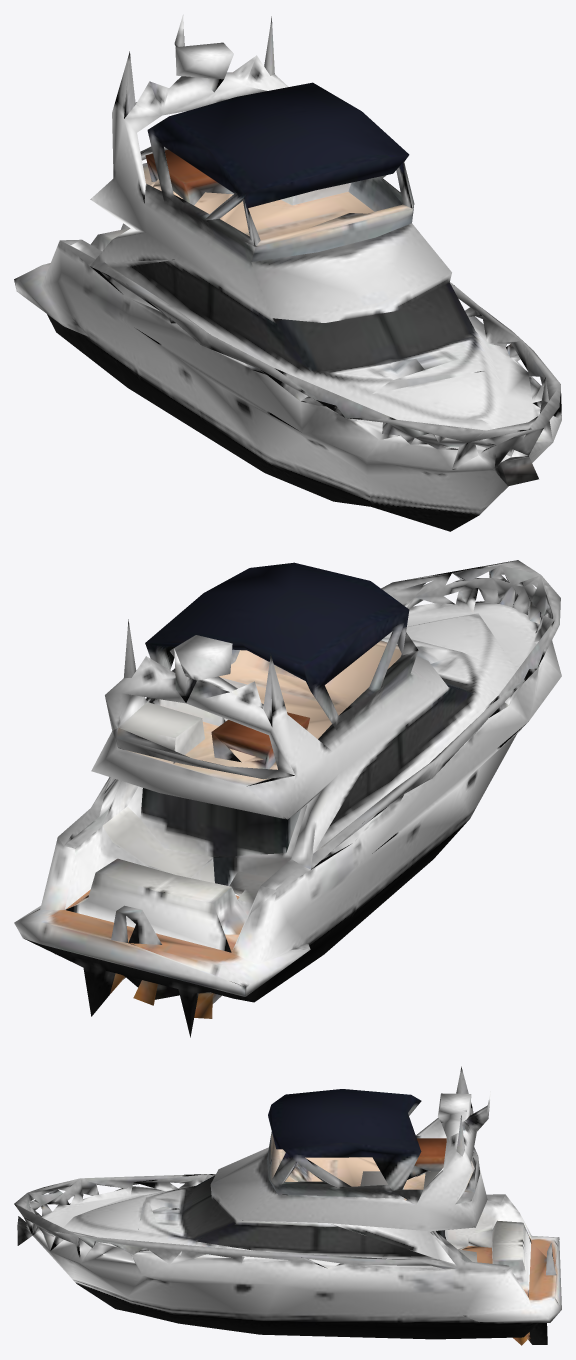
Rendered from boat_motor_yacht.glb.
The picture shows the model from 3 angles, top to bottom: view 1: azimuth 30°, elevation 25°; view 2: azimuth 150°, elevation 25°; view 3: azimuth 270°, elevation 25°; orthographic projection. The views are drawn at different scales.
Visible parts, largest first — view 1: boat_motor_yacht; view 2: boat_motor_yacht; view 3: boat_motor_yacht.
Part boxes in pixels (left/top/right/bottom): boat_motor_yacht: left=14, top=15, right=561, bottom=531; boat_motor_yacht: left=14, top=560, right=561, bottom=1037; boat_motor_yacht: left=14, top=1066, right=561, bottom=1345.
Size of the model in its own units: 4.65 by 6.29 by 12.89.
1 material, 1 textured.
